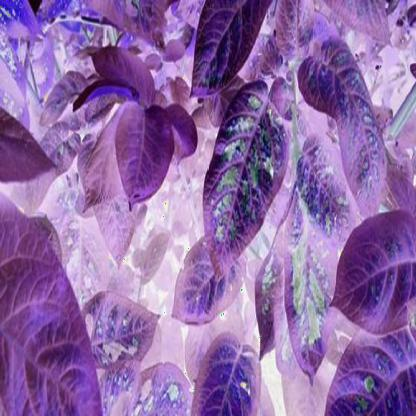potato leaf early blight: (295, 32, 385, 225), (202, 77, 285, 277), (282, 196, 337, 379), (295, 129, 361, 254), (76, 293, 158, 371), (130, 362, 191, 415)
